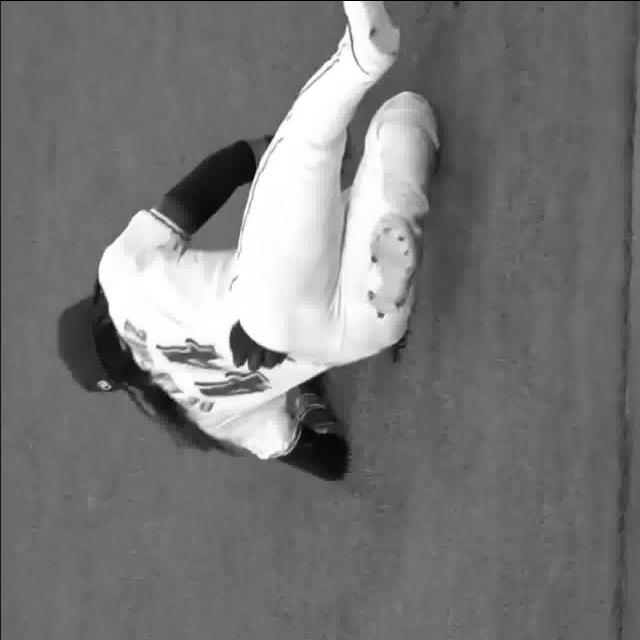shoe: (366, 215, 419, 314), (343, 0, 400, 78)
